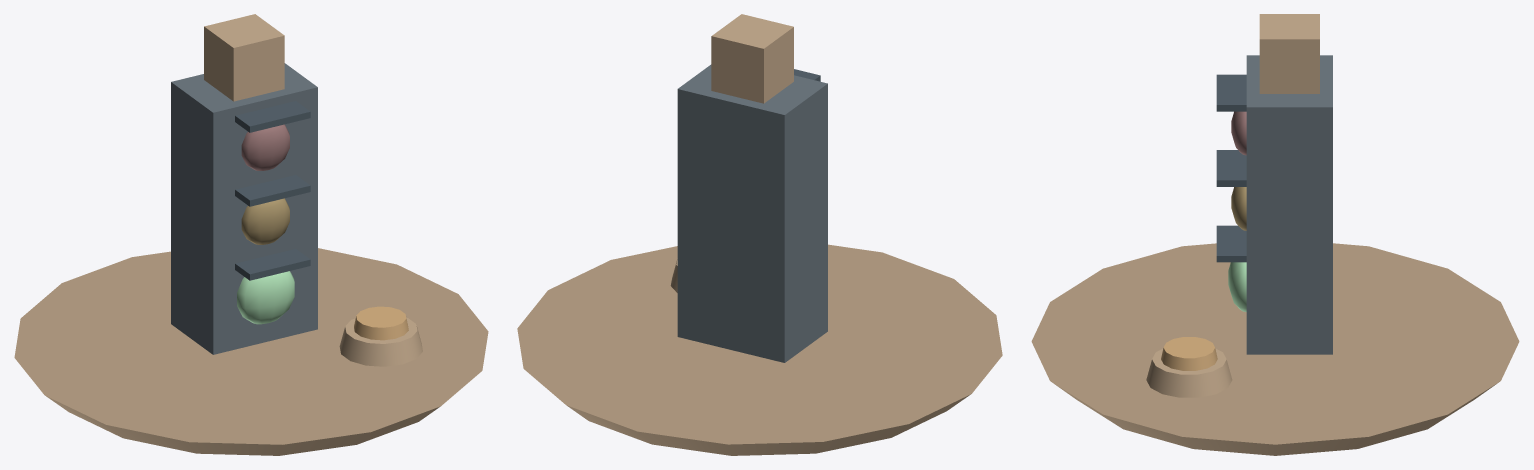
Rendered from party_mg24_signal_block.glb.
3 views of the same model, side by side, from view 1: azimuth 30°, elevation 25°; view 2: azimuth 150°, elevation 25°; view 3: azimuth 270°, elevation 25° (orthographic). The views are drawn at different scales.
Parts seen in each view (by area): view 1: _MeshInstance3D_45, _MeshInstance3D_46, _MeshInstance3D_53, _MeshInstance3D_54, _MeshInstance3D_51, _MeshInstance3D_47, _MeshInstance3D_49, _MeshInstance3D_55, _MeshInstance3D_52, _MeshInstance3D_48, _MeshInstance3D_50; view 2: _MeshInstance3D_45, _MeshInstance3D_46, _MeshInstance3D_53; view 3: _MeshInstance3D_45, _MeshInstance3D_46, _MeshInstance3D_53, _MeshInstance3D_54, _MeshInstance3D_55, _MeshInstance3D_48, _MeshInstance3D_52, _MeshInstance3D_50, _MeshInstance3D_51, _MeshInstance3D_47, _MeshInstance3D_49.
Part boxes in pixels (<box>): _MeshInstance3D_45: <box>14,248,488,455</box>; _MeshInstance3D_46: <box>171,63,317,354</box>; _MeshInstance3D_53: <box>204,14,284,101</box>; _MeshInstance3D_54: <box>339,317,422,366</box>; _MeshInstance3D_51: <box>237,271,294,324</box>; _MeshInstance3D_47: <box>241,124,289,170</box>; _MeshInstance3D_49: <box>241,198,289,244</box>; _MeshInstance3D_55: <box>354,306,408,340</box>; _MeshInstance3D_52: <box>235,249,310,280</box>; _MeshInstance3D_48: <box>235,101,310,132</box>; _MeshInstance3D_50: <box>235,175,310,206</box>; _MeshInstance3D_45: <box>517,244,1002,455</box>; _MeshInstance3D_46: <box>677,64,827,362</box>; _MeshInstance3D_53: <box>711,14,793,103</box>; _MeshInstance3D_45: <box>1031,243,1519,455</box>; _MeshInstance3D_46: <box>1246,55,1332,354</box>; _MeshInstance3D_53: <box>1259,14,1319,93</box>; _MeshInstance3D_54: <box>1146,348,1232,397</box>; _MeshInstance3D_55: <box>1161,337,1217,370</box>; _MeshInstance3D_48: <box>1216,74,1246,111</box>; _MeshInstance3D_52: <box>1216,225,1246,262</box>; _MeshInstance3D_50: <box>1216,150,1246,186</box>; _MeshInstance3D_51: <box>1228,262,1246,311</box>; _MeshInstance3D_47: <box>1231,111,1246,155</box>; _MeshInstance3D_49: <box>1231,187,1246,230</box>.
Size of the model in its own units: 3.4 by 2.6 by 3.4.
